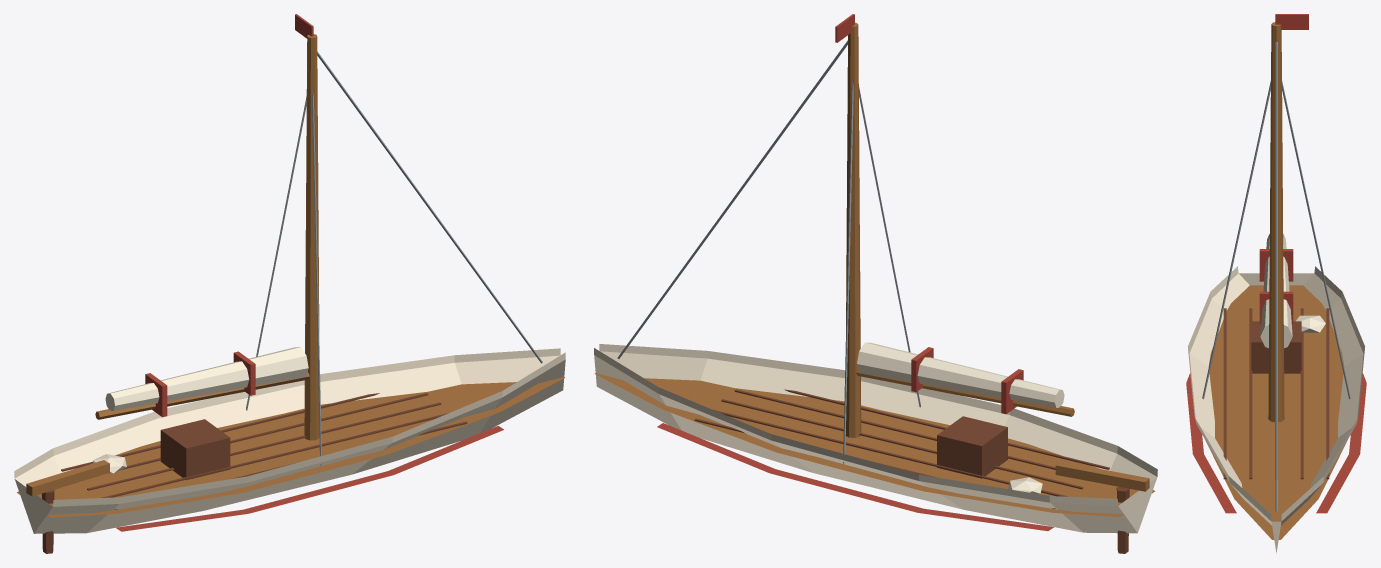
File: bay-sailboat.glb
3 renders of one model, left to right at view 1: azimuth 30°, elevation 25°; view 2: azimuth 150°, elevation 25°; view 3: azimuth 270°, elevation 25°, orthographic. The views are drawn at different scales.
Parts seen in each view (by area): view 1: GEO-sail_hull, GEO-sail_hull_deck, GEO-sail_hull_rail, GEO-sail_mast, GEO-sail_furled, GEO-sail_crate, GEO-sail_waterline_-1, GEO-sail_tiller, GEO-sail_stay_f, GEO-sail_seam_1, GEO-sail_boom, GEO-sail_shroud_-1 (+4 smaller); view 2: GEO-sail_hull, GEO-sail_hull_deck, GEO-sail_hull_rail, GEO-sail_mast, GEO-sail_furled, GEO-sail_crate, GEO-sail_waterline_1, GEO-sail_tiller, GEO-sail_stay_f, GEO-sail_boom, GEO-sail_shroud_1, GEO-sail_seam_3 (+4 smaller); view 3: GEO-sail_hull_deck, GEO-sail_hull, GEO-sail_mast, GEO-sail_hull_rail, GEO-sail_crate, GEO-sail_stay_f, GEO-sail_waterline_-1, GEO-sail_waterline_1, GEO-sail_furled, GEO-sail_shroud_-1, GEO-sail_shroud_1, GEO-sail_seam_1 (+7 smaller).
Part boxes in pixels (<box>): GEO-sail_hull: <box>14,355,565,533</box>; GEO-sail_hull_deck: <box>17,377,564,517</box>; GEO-sail_hull_rail: <box>14,348,565,506</box>; GEO-sail_mast: <box>304,34,319,440</box>; GEO-sail_furled: <box>105,347,308,410</box>; GEO-sail_crate: <box>160,419,230,480</box>; GEO-sail_waterline_-1: <box>116,426,503,531</box>; GEO-sail_tiller: <box>26,460,109,496</box>; GEO-sail_stay_f: <box>317,51,542,363</box>; GEO-sail_seam_1: <box>101,413,448,497</box>; GEO-sail_boom: <box>95,372,309,419</box>; GEO-sail_shroud_-1: <box>311,92,321,465</box>; GEO-sail_hull: <box>594,351,1157,533</box>; GEO-sail_hull_deck: <box>594,373,1154,516</box>; GEO-sail_hull_rail: <box>594,344,1157,505</box>; GEO-sail_mast: <box>845,22,861,437</box>; GEO-sail_furled: <box>857,342,1064,407</box>; GEO-sail_crate: <box>937,416,1007,478</box>; GEO-sail_waterline_1: <box>657,423,1053,531</box>; GEO-sail_tiller: <box>1055,461,1149,491</box>; GEO-sail_stay_f: <box>617,40,847,358</box>; GEO-sail_boom: <box>855,368,1074,416</box>; GEO-sail_shroud_1: <box>843,82,853,463</box>; GEO-sail_seam_3: <box>714,410,1068,496</box>; GEO-sail_hull_deck: <box>1206,285,1346,539</box>; GEO-sail_hull: <box>1189,273,1363,553</box>; GEO-sail_mast: <box>1268,22,1284,422</box>; GEO-sail_hull_rail: <box>1187,266,1365,520</box>; GEO-sail_crate: <box>1251,321,1301,373</box>; GEO-sail_stay_f: <box>1275,41,1277,511</box>; GEO-sail_waterline_-1: <box>1186,373,1236,513</box>; GEO-sail_waterline_1: <box>1316,373,1366,513</box>; GEO-sail_furled: <box>1260,234,1292,348</box>; GEO-sail_shroud_-1: <box>1202,81,1270,399</box>; GEO-sail_shroud_1: <box>1282,81,1350,399</box>; GEO-sail_seam_1: <box>1249,308,1252,479</box>.
Size of the model in its own units: 5.48 by 4.49 by 1.62.
